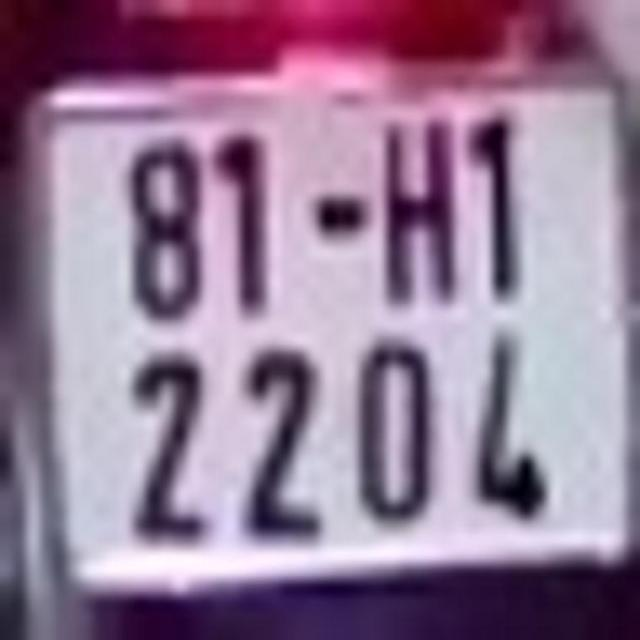0: (352, 338, 430, 519)
1: (213, 134, 270, 316), (466, 115, 514, 306)
2: (245, 344, 321, 536), (131, 354, 207, 544)
4: (475, 330, 549, 525)
8: (128, 140, 199, 318)
H: (383, 119, 458, 308)
